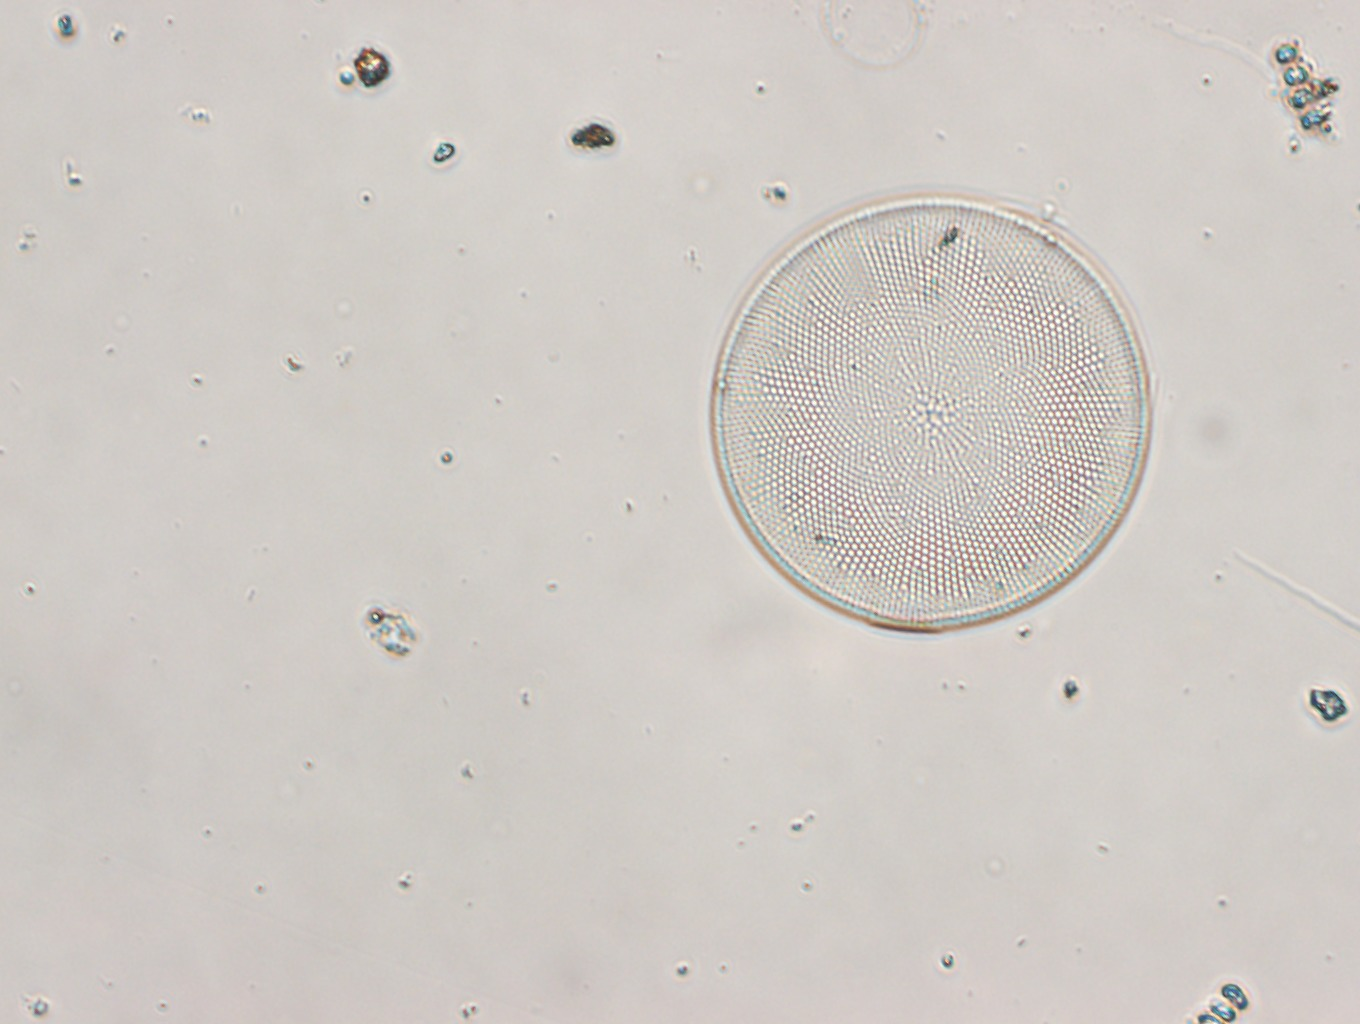coscinodiscus: (707, 188, 1157, 639)
